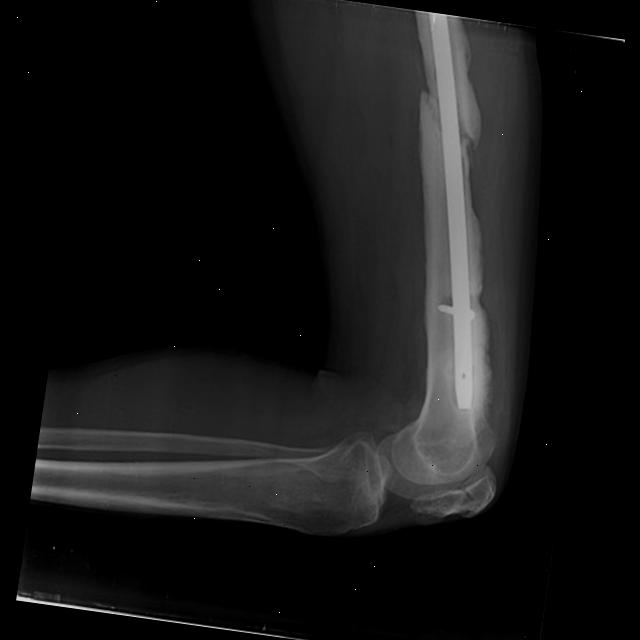Fracture: (416, 64, 482, 158)
